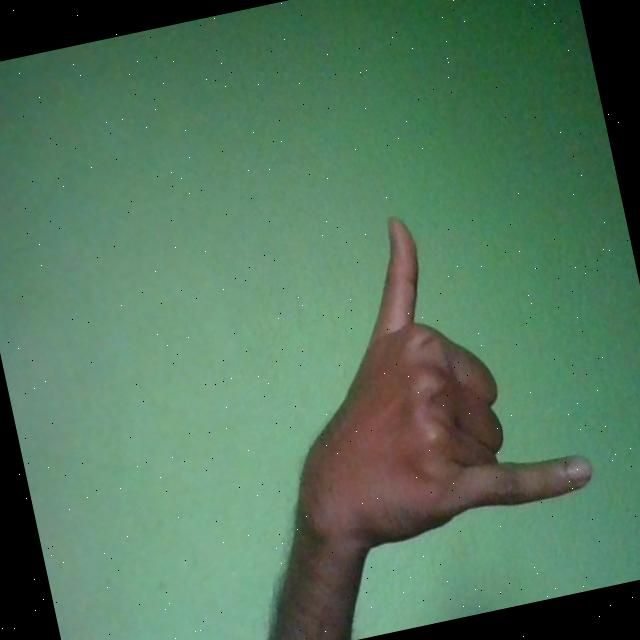Call Me: (232, 186, 600, 570)
